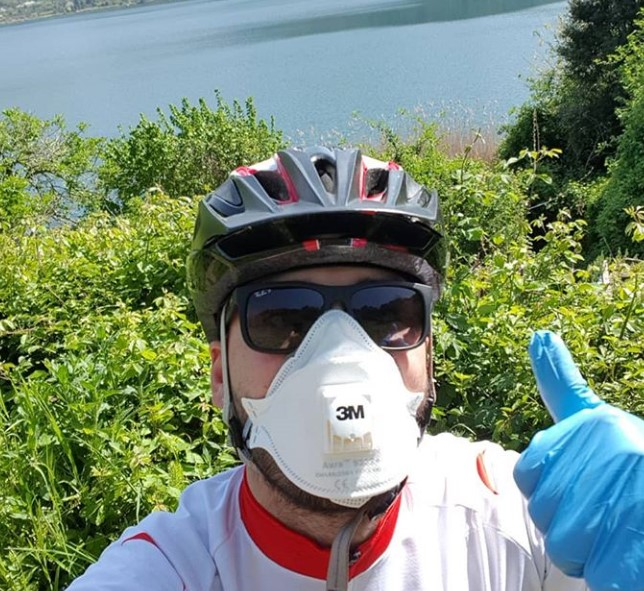face_with_mask: (186, 145, 454, 517)
